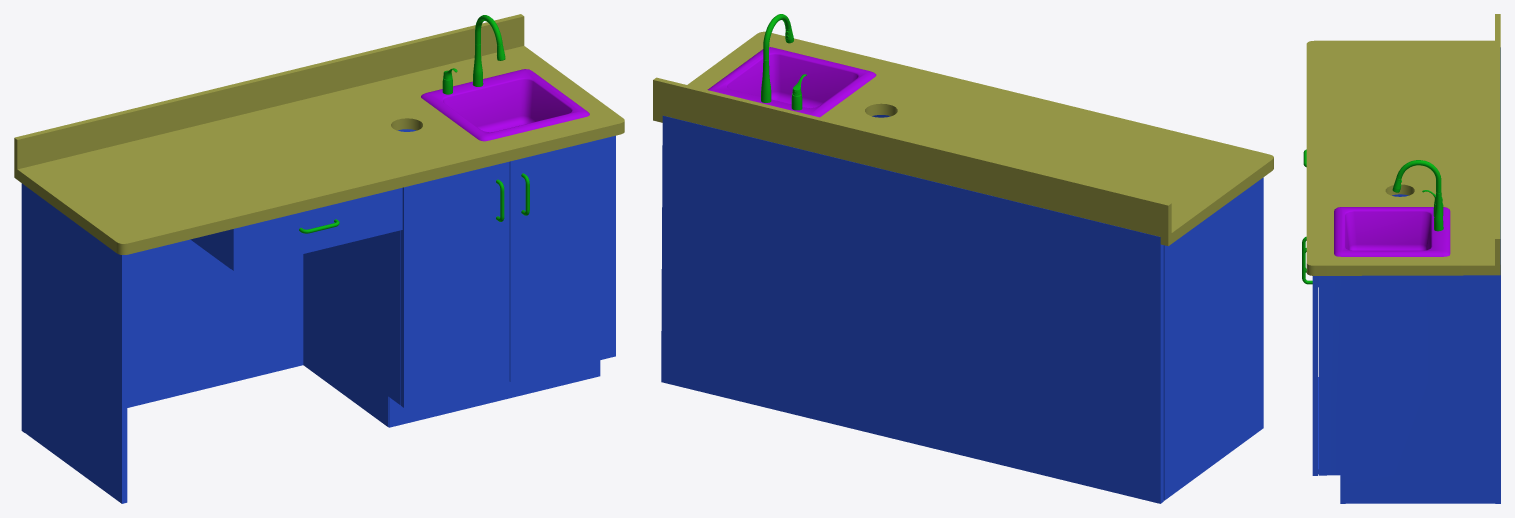
Rendered from Cabinet 1.FBX.
The picture shows the model from 3 angles, left to right: view 1: azimuth 30°, elevation 25°; view 2: azimuth 150°, elevation 25°; view 3: azimuth 270°, elevation 25°; orthographic projection. The views are drawn at different scales.
Parts seen in each view (by area): view 1: Object030, Counter Top 1.003, Box187, 647, Cylinder023; view 2: Object030, Counter Top 1.003, Box187, 647; view 3: Object030, Counter Top 1.003, Box187, 647, Cylinder023.
Part boxes in pixels (box(x1,y1,x2,y2)): Object030: box(21, 129, 615, 503); Counter Top 1.003: box(14, 14, 624, 254); Box187: box(421, 69, 589, 141); 647: box(442, 15, 505, 94); Cylinder023: box(299, 173, 529, 233); Object030: box(661, 115, 1263, 503); Counter Top 1.003: box(653, 31, 1273, 246); Box187: box(707, 47, 876, 117); 647: box(761, 14, 806, 110); Object030: box(1312, 47, 1500, 503); Counter Top 1.003: box(1306, 14, 1500, 275); Box187: box(1334, 207, 1450, 256); 647: box(1392, 160, 1443, 231); Cylinder023: box(1302, 149, 1312, 284).
Bounding box in the file's own units: 11.98 × 7.78 × 4.48.
